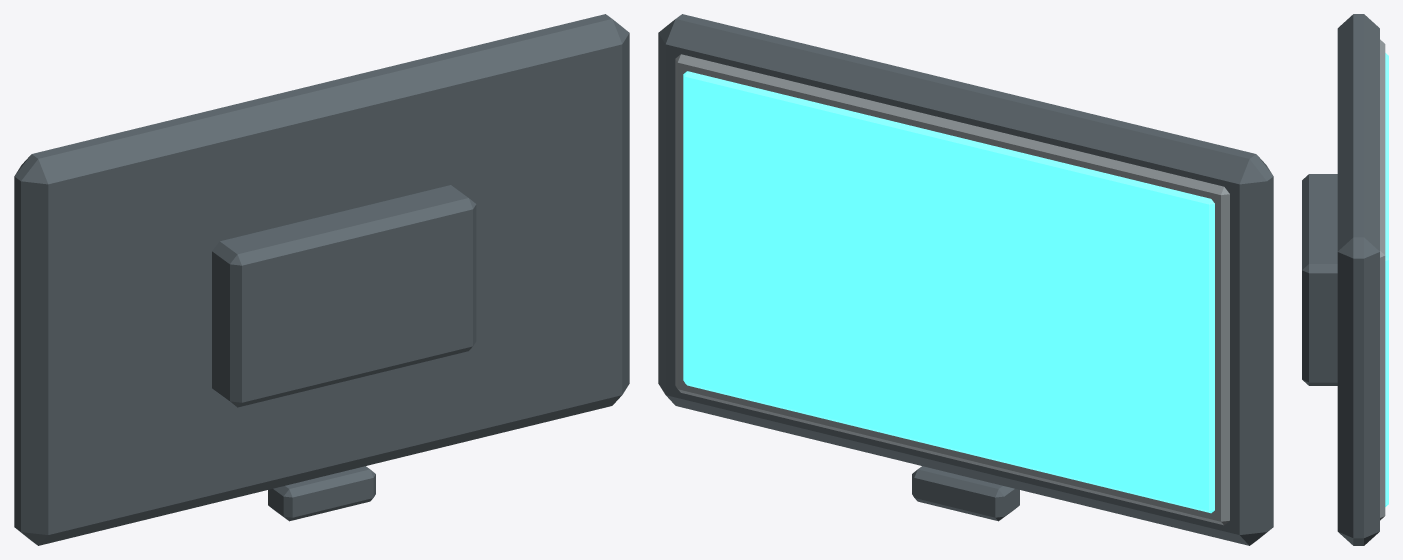
File: BUILD0050_WallMountedTV.fbx
3 renders of one model, left to right at view 1: azimuth 30°, elevation 25°; view 2: azimuth 150°, elevation 25°; view 3: azimuth 270°, elevation 25°, orthographic. The views are drawn at different scales.
Visible parts, largest first — view 1: BUILD0050_WallMountedTV; view 2: BUILD0050_WallMountedTV; view 3: BUILD0050_WallMountedTV.
Boxes of the visible parts, x1,y1,x2,y2 form: BUILD0050_WallMountedTV: [14, 14, 629, 545]; BUILD0050_WallMountedTV: [658, 14, 1273, 545]; BUILD0050_WallMountedTV: [1302, 14, 1388, 545].
Size of the model in its own units: 1.58 by 1.04 by 0.245.
